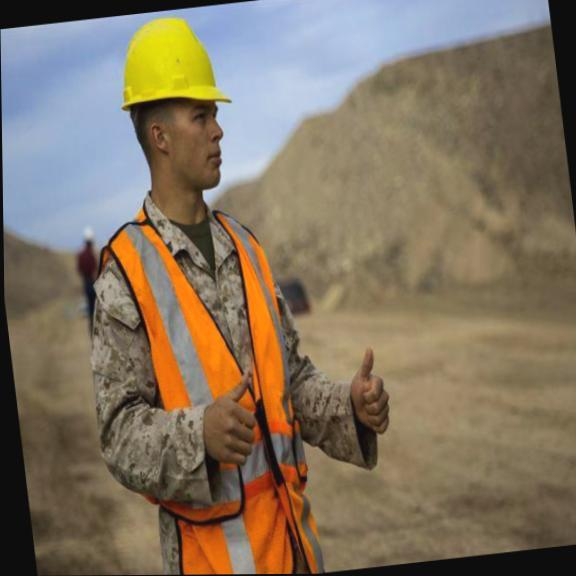safety_vest: (88, 182, 326, 524)
